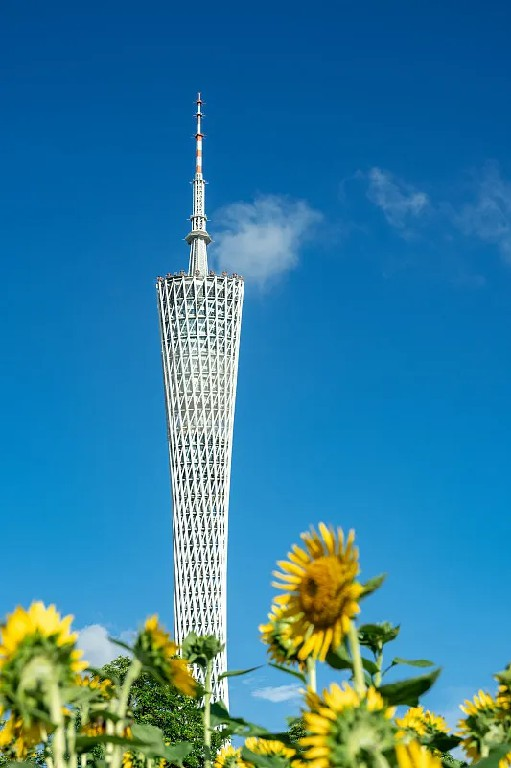Canton: (157, 89, 236, 768)
